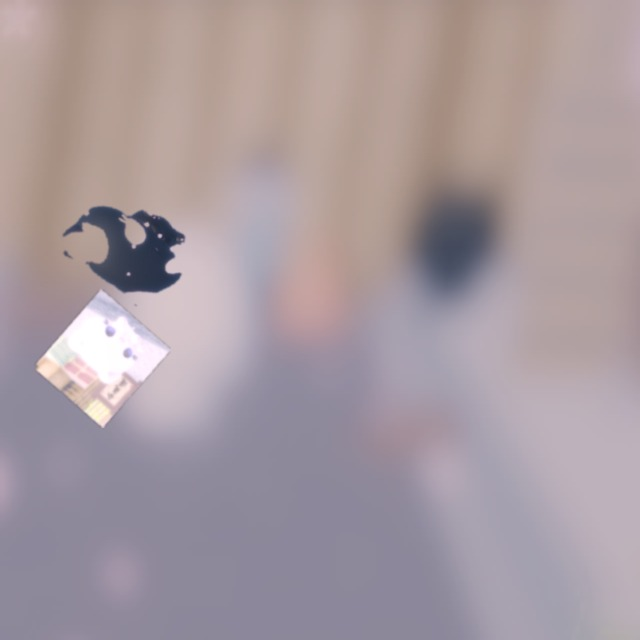urso_branco: (33, 289, 171, 428)
urso_preto: (30, 163, 223, 335)
